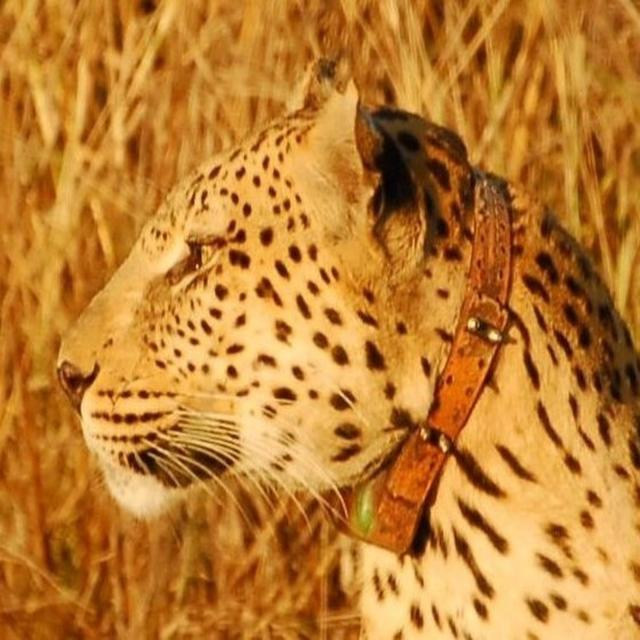Leopard: (70, 63, 638, 640)
